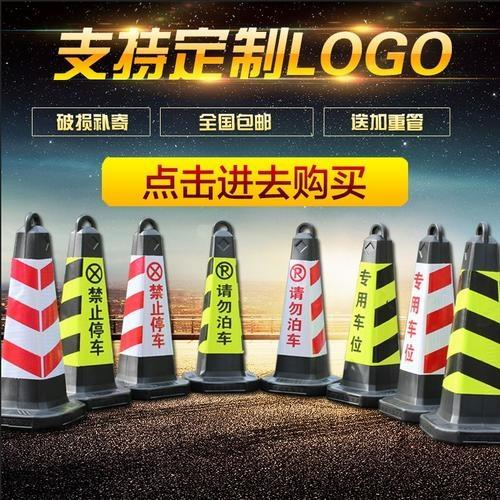cone_barrel: (428, 230, 498, 437), (385, 227, 460, 418), (111, 219, 182, 392), (52, 217, 119, 400), (333, 226, 403, 400), (262, 225, 333, 392), (186, 223, 256, 390)
